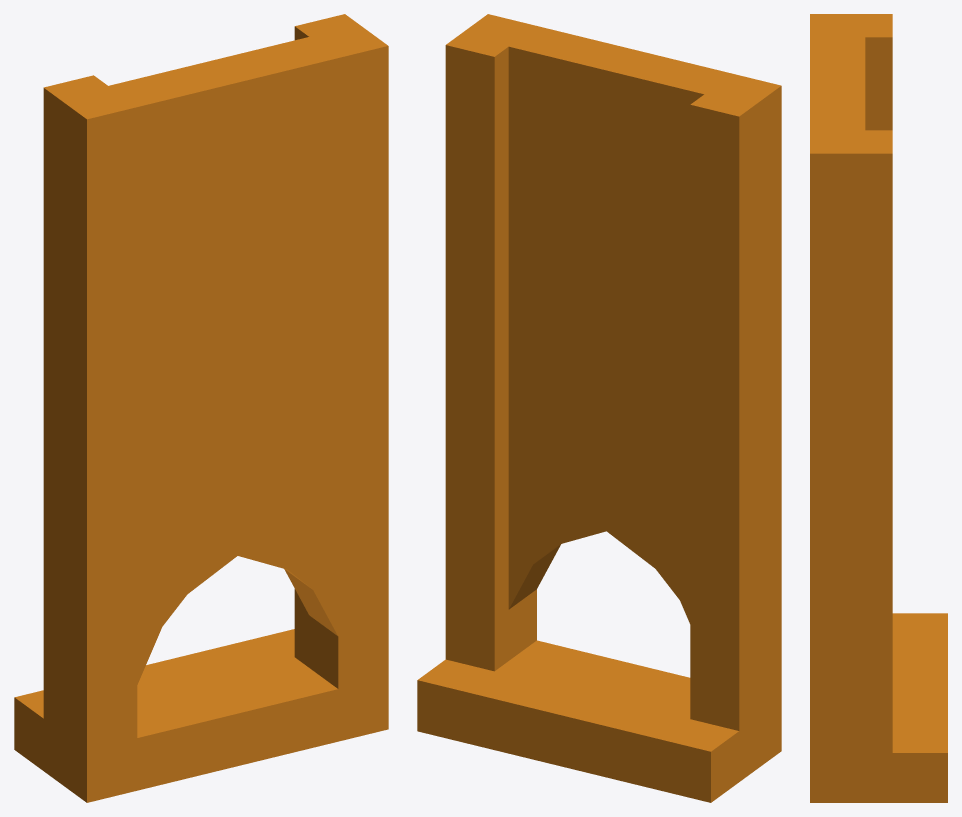
File: realease_pressure.glb
The picture shows the model from 3 angles, left to right: view 1: azimuth 30°, elevation 25°; view 2: azimuth 150°, elevation 25°; view 3: azimuth 270°, elevation 25°; orthographic projection. The views are drawn at different scales.
Visible parts, largest first — view 1: generated(Clone); view 2: generated(Clone); view 3: generated(Clone).
Part boxes in pixels (box(x1,y1,x2,y2)): generated(Clone): box(14, 14, 388, 802); generated(Clone): box(417, 14, 781, 802); generated(Clone): box(810, 14, 947, 802).
Bounding box in the file's own units: 6 × 13 × 2.5.
1 material, 1 textured.
